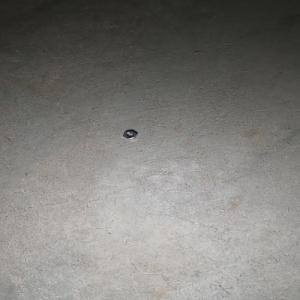Nut: (122, 130, 137, 139)
